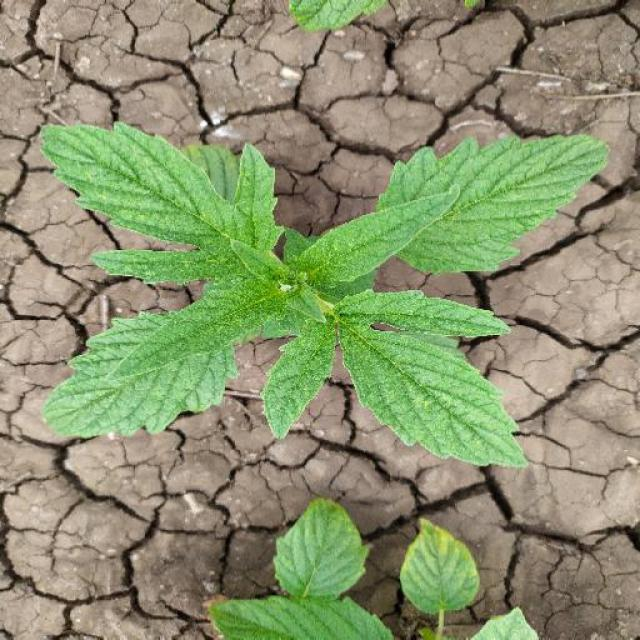crop: (24, 110, 612, 472)
